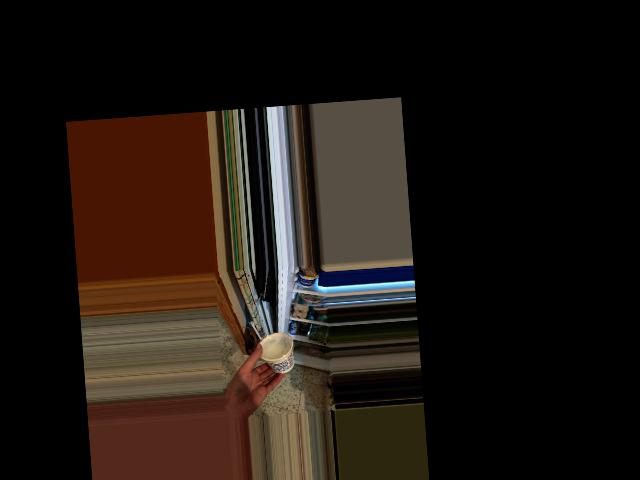cotage: (256, 337, 293, 373)
